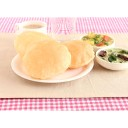poori: (24, 39, 71, 79), (14, 29, 56, 59), (62, 38, 94, 67)
